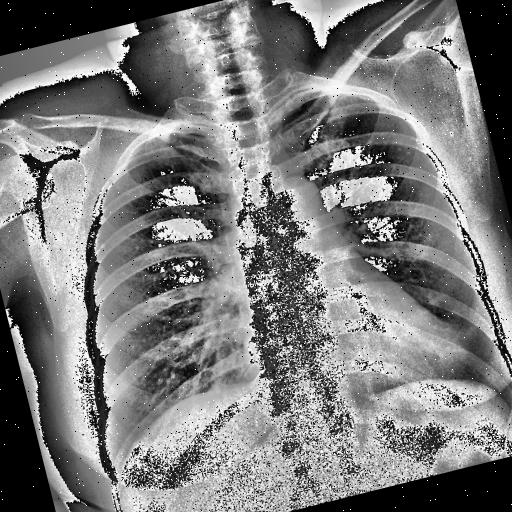0- Aortic enlargement: (258, 170, 328, 236)
3- Cardiomegaly: (238, 274, 476, 426), (237, 286, 474, 432), (236, 286, 472, 424)
9- Other lesion: (99, 242, 107, 250)
